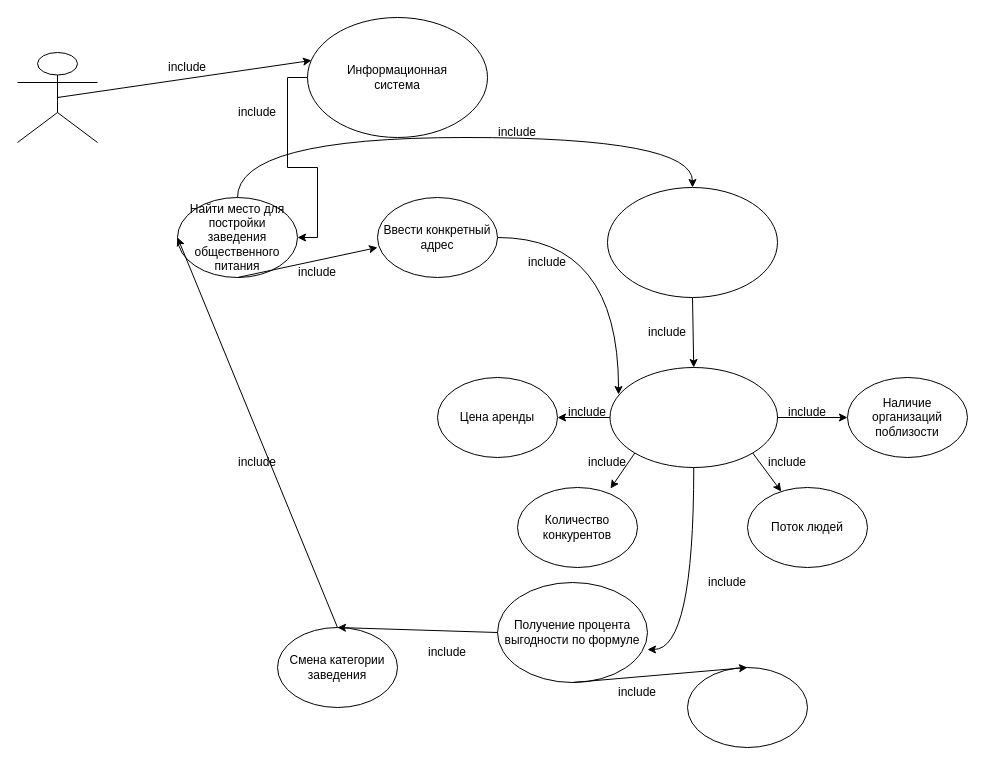
The diagram is 985 pixels wide and 765 high, and some of its shapes have lost their labels. The shapes that lost their labels are listed below. From the top down, each one's centre as x and y in pixels, then its label:
At pixel 57 97: "Пользователь".
At pixel 692 242: "Карта города с областями различной расцветки".
At pixel 693 417: "Формула выгодности постройки заведения общественного питания".
At pixel 747 707: "Окончательный выбор".
